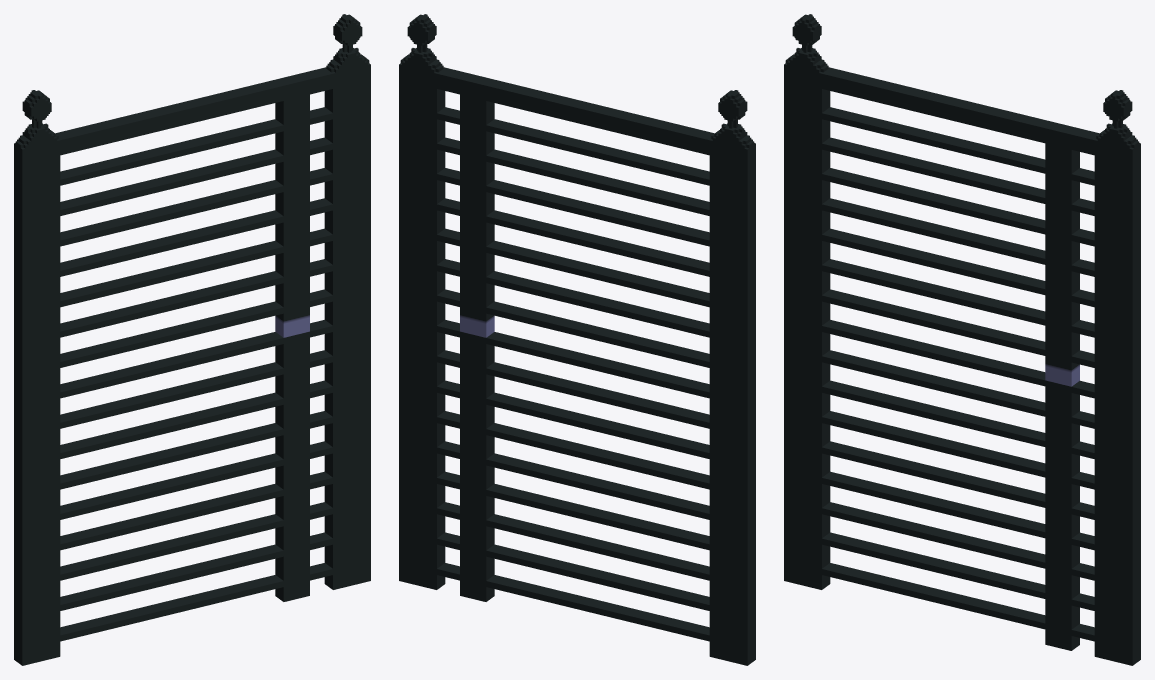
File: FenceGate.fbx
The picture shows the model from 3 angles, left to right: view 1: azimuth 30°, elevation 25°; view 2: azimuth 150°, elevation 25°; view 3: azimuth 330°, elevation 25°; orthographic projection.
Parts seen in each view (by area): view 1: Object; view 2: Object; view 3: Object.
Boxes of the visible parts, box(x1,y1,x2,y2) form: Object: box(14, 14, 370, 665); Object: box(399, 14, 755, 665); Object: box(784, 14, 1140, 665).
Bounding box in the file's own units: 120 × 186 × 5.
